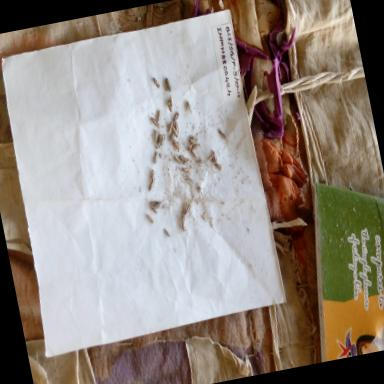pbw: (178, 217, 188, 235), (189, 144, 200, 160), (172, 138, 183, 154), (166, 119, 176, 135), (172, 151, 182, 167), (213, 160, 224, 174), (218, 128, 228, 142), (150, 115, 160, 129), (166, 98, 174, 115), (186, 100, 194, 115), (146, 213, 155, 226), (149, 168, 157, 182), (212, 148, 219, 164), (154, 130, 162, 144), (160, 134, 168, 148), (182, 208, 190, 222), (152, 77, 160, 91), (172, 111, 182, 122), (195, 157, 206, 167), (168, 94, 176, 107), (182, 201, 190, 214), (179, 154, 189, 164), (148, 180, 157, 191), (174, 121, 180, 137), (152, 152, 160, 164), (172, 126, 180, 138), (164, 227, 172, 239), (150, 204, 158, 216), (188, 132, 197, 142), (189, 137, 198, 147), (184, 203, 192, 214), (156, 110, 162, 124), (156, 138, 162, 152), (166, 78, 172, 92), (206, 154, 216, 162), (182, 166, 190, 176), (186, 142, 194, 152), (149, 200, 159, 207), (164, 78, 169, 92), (154, 202, 162, 210), (158, 134, 164, 144), (169, 132, 176, 140), (191, 144, 200, 150)
